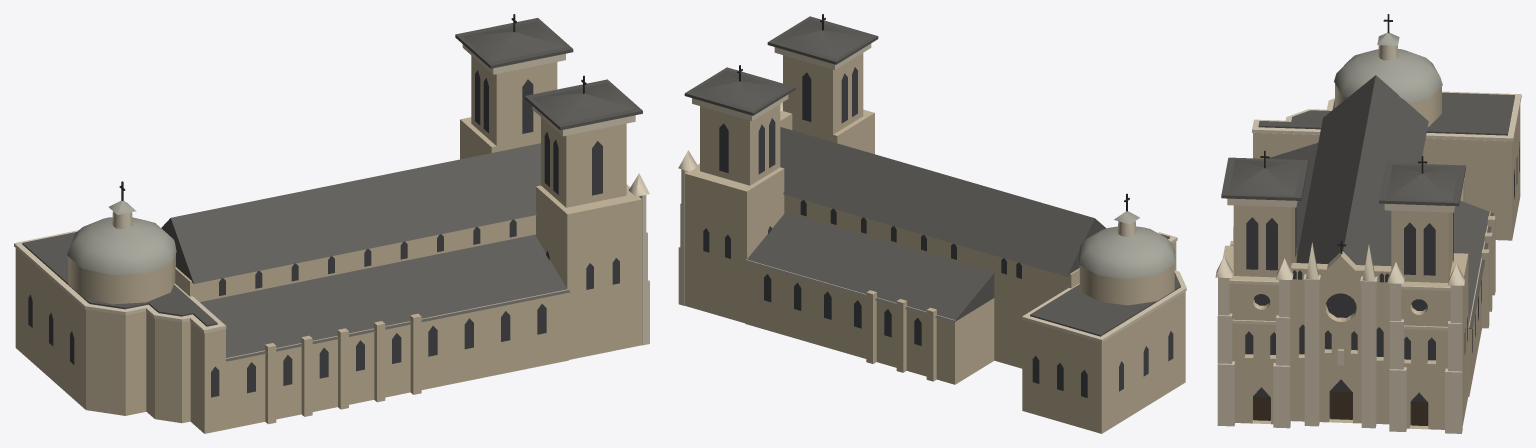
Rendered from san-fernando-cathedral-far.glb.
3 renders of one model, left to right at view 1: azimuth 30°, elevation 25°; view 2: azimuth 150°, elevation 25°; view 3: azimuth 270°, elevation 25°, orthographic. The views are drawn at different scales.
Visible parts, largest first — view 1: san-fernando-cathedral-0-stone, san-fernando-cathedral-0-roof, san-fernando-cathedral-0-dark, san-fernando-cathedral-0-dome, san-fernando-cathedral-0-trim; view 2: san-fernando-cathedral-0-stone, san-fernando-cathedral-0-roof, san-fernando-cathedral-0-dark, san-fernando-cathedral-0-dome, san-fernando-cathedral-0-trim; view 3: san-fernando-cathedral-0-stone, san-fernando-cathedral-0-roof, san-fernando-cathedral-0-trim, san-fernando-cathedral-0-dark, san-fernando-cathedral-0-dome, san-fernando-cathedral-0-wood.
Boxes of the visible parts, x1,y1,x2,y2 form: san-fernando-cathedral-0-stone: (15, 55, 641, 433); san-fernando-cathedral-0-roof: (22, 18, 642, 361); san-fernando-cathedral-0-dark: (28, 70, 619, 397); san-fernando-cathedral-0-dome: (67, 200, 176, 275); san-fernando-cathedral-0-trim: (14, 44, 649, 345); san-fernando-cathedral-0-stone: (685, 53, 1185, 433); san-fernando-cathedral-0-roof: (684, 16, 1180, 336); san-fernando-cathedral-0-dark: (703, 67, 1173, 397); san-fernando-cathedral-0-dome: (1078, 211, 1175, 279); san-fernando-cathedral-0-trim: (678, 43, 1186, 342); san-fernando-cathedral-0-stone: (1222, 84, 1520, 429); san-fernando-cathedral-0-roof: (1221, 75, 1514, 328); san-fernando-cathedral-0-trim: (1215, 45, 1521, 433); san-fernando-cathedral-0-dark: (1245, 142, 1519, 425); san-fernando-cathedral-0-dome: (1334, 32, 1442, 103); san-fernando-cathedral-0-wood: (1254, 391, 1427, 425).
Size of the model in its own units: 52.56 by 25.7 by 27.97.
